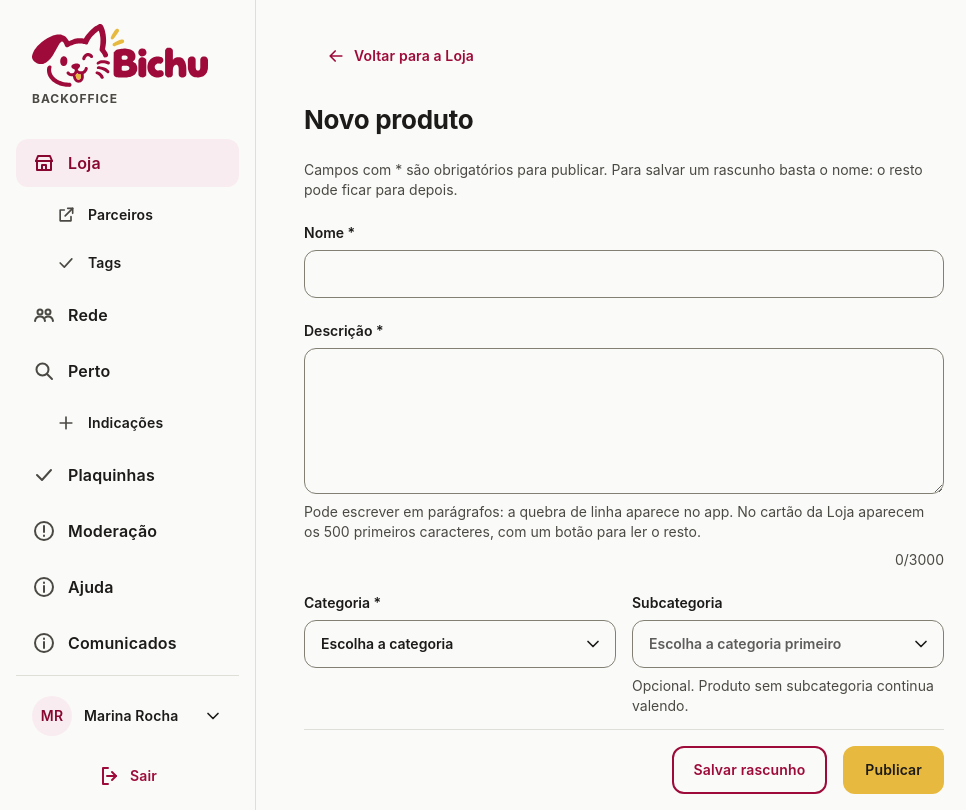
Scenario: 3 · Loja: capa, ordem, descrição e rascunho (17/10/2026) › ISCA: o rascunho afrouxou, a PUBLICAÇÃO não — publicar sem os campos continua barrado e nada vai ao servidor
This screenshot has width=966, height=810.
Type "Só o nome" into the field labelled "Nome *" at point(624, 274), box [304,250,944,298]
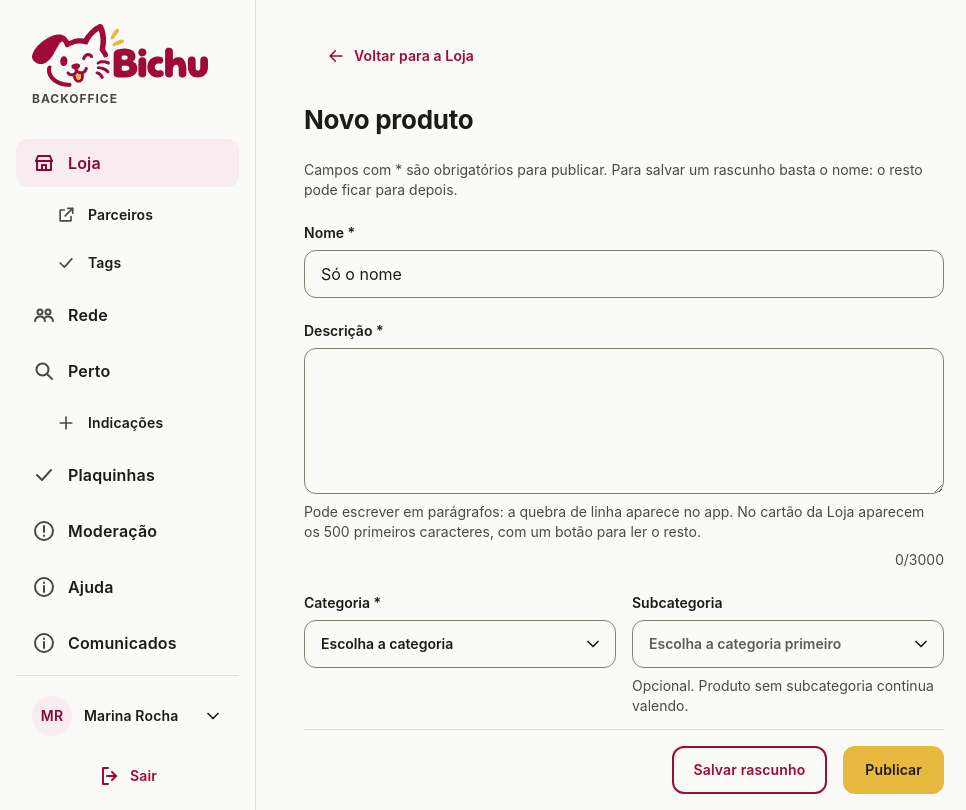
Click the button "Publicar" at point(894, 770), box [843,746,944,794]
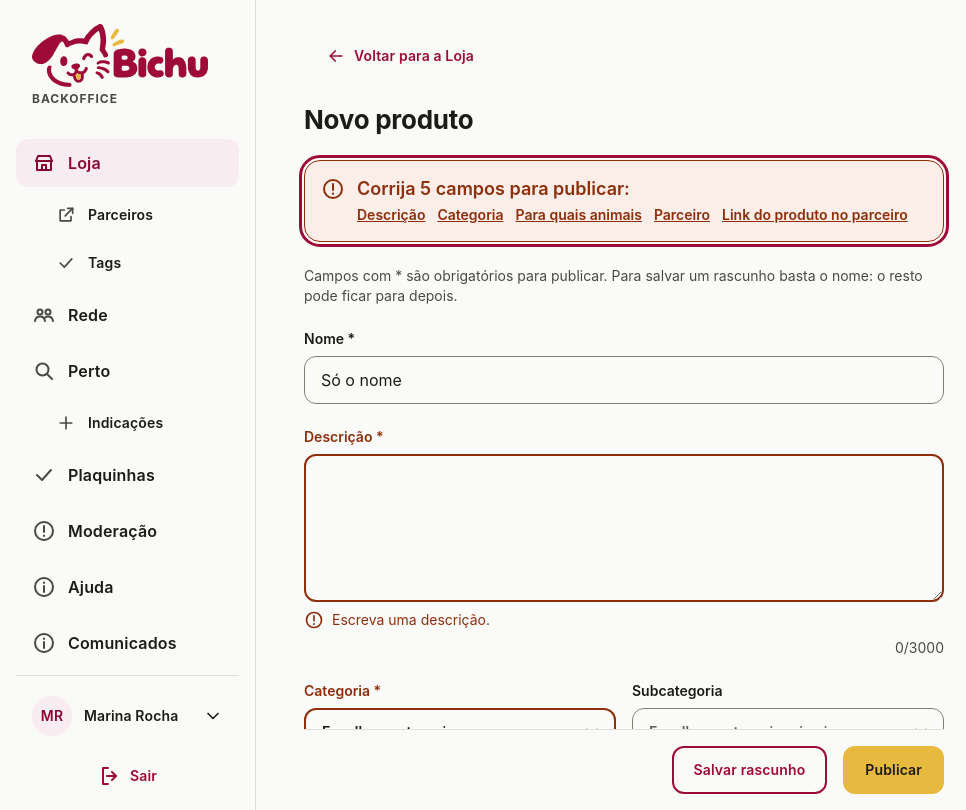
Now the message shows "Corrija 5 campos para publicar:", box [357,178,630,199]
Now the links read "Descrição", "Categoria", "Para quais animais", "Parceiro", "Link do produto no parceiro", in this order, box [357,205,425,225]; [437,205,504,225]; [516,205,642,225]; [654,205,710,225]; [722,205,908,225]
